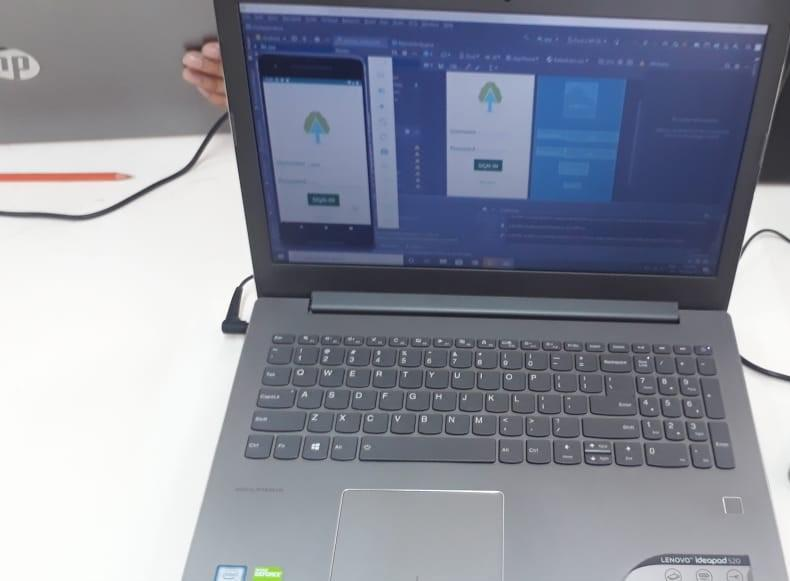laptop: (174, 4, 790, 581)
